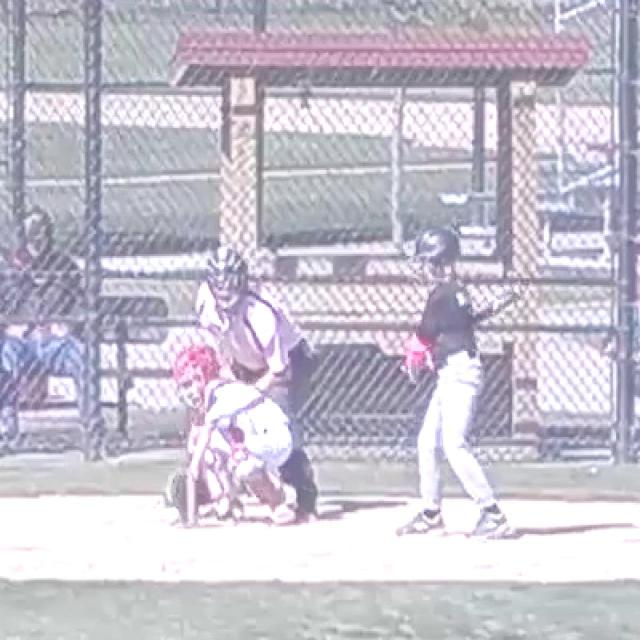baseball: (167, 509, 178, 521)
